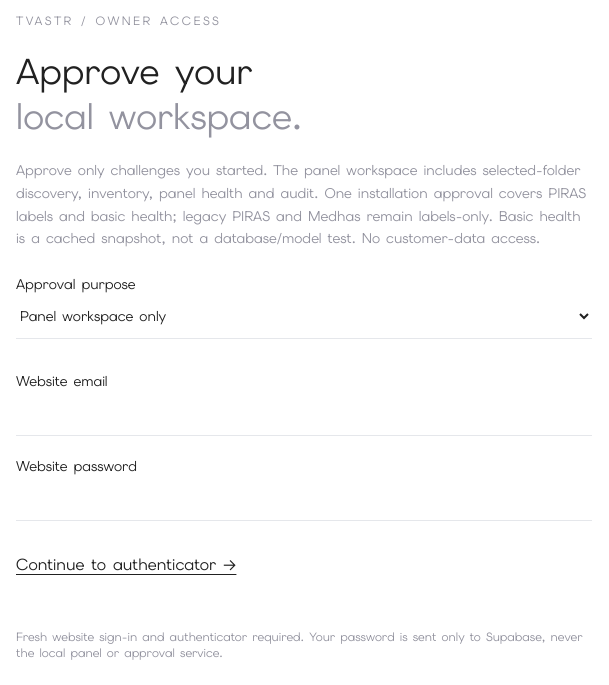
isolated owner approval › does not expose an approval for a denied service response
In the field labelled "Website email": (304, 414) [16,391,592,436], type "owner@example.invalid"
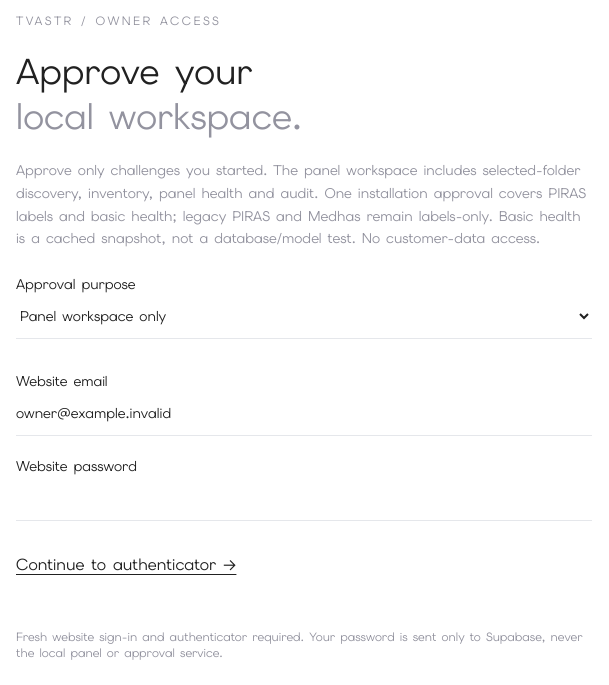
In the password field labelled "Website password": (304, 498) [16,476,592,521], type "synthetic-password-not-real"
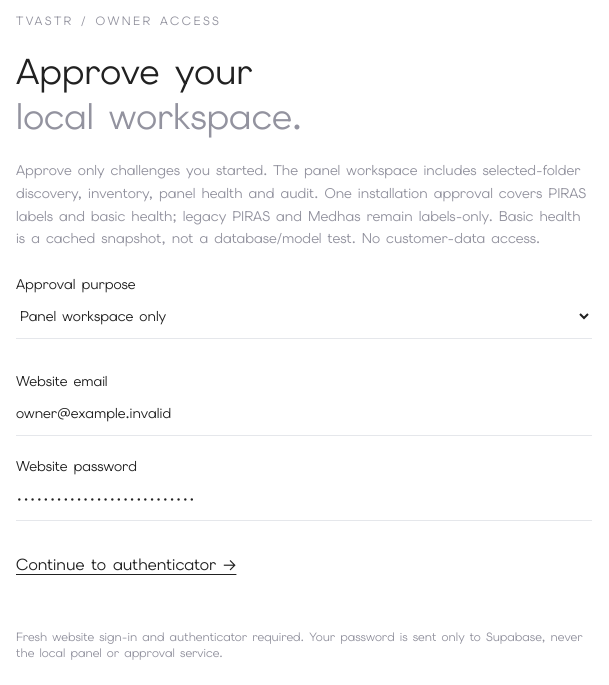
Click the button "Continue to authenticator →": click(126, 565) [16,541,236,589]
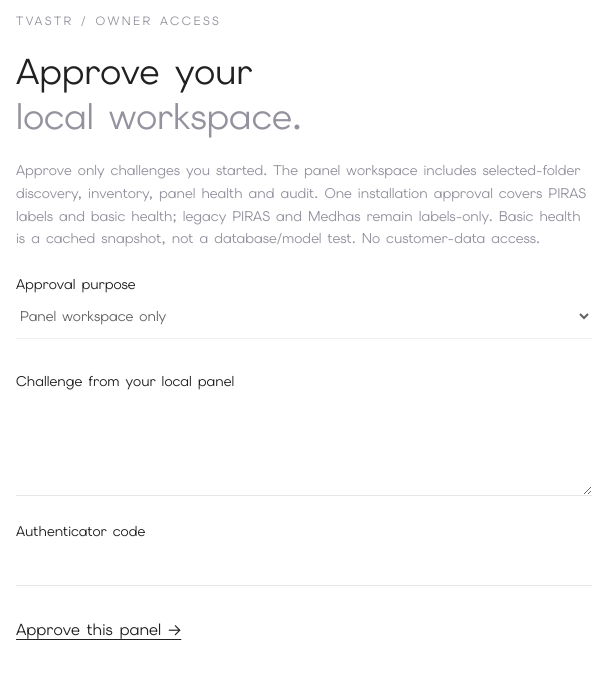
Expected: the field labelled "Authenticator code" is shown, [16,541,592,586]
In the text box labelled "Challenge from your local panel": (304, 444) [16,391,592,496], type "synthetic-challenge"
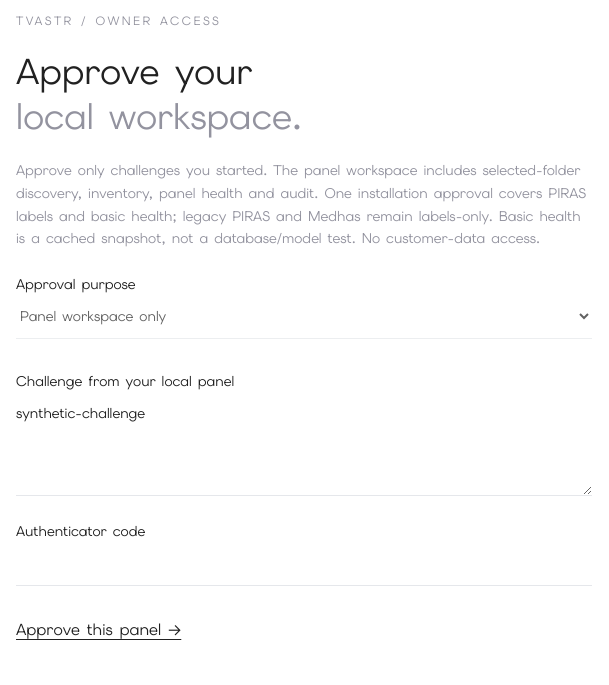
In the field labelled "Authenticator code": (304, 564) [16,541,592,586], type "123456"
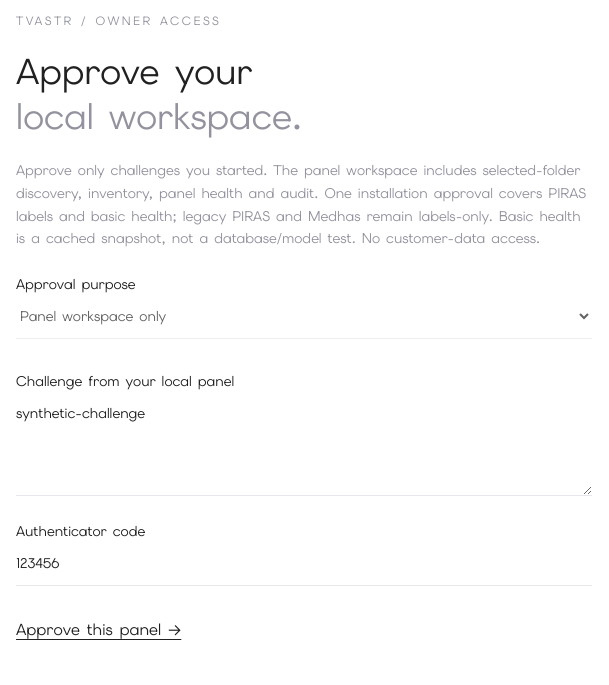
Click the button "Approve this panel →": click(99, 630) [16,606,181,654]
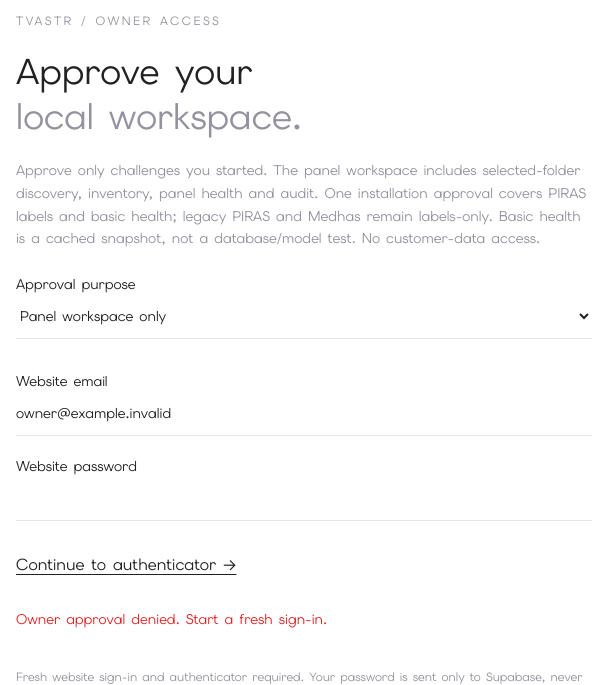
Result: the message shows "Owner approval denied" at [16,610,327,628]
